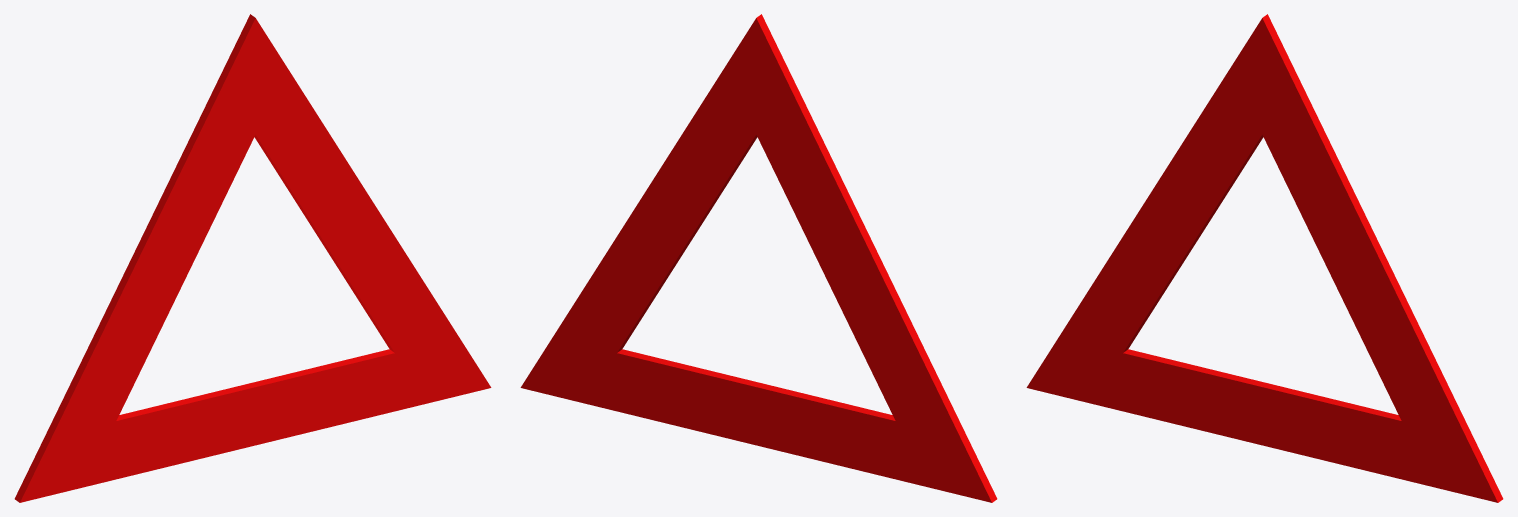
The model's file is gate_triangle_small_red.dae.
3 renders of one model, left to right at view 1: azimuth 30°, elevation 25°; view 2: azimuth 150°, elevation 25°; view 3: azimuth 330°, elevation 25°, orthographic.
Visible parts, largest first — view 1: Triangle Small; view 2: Triangle Small; view 3: Triangle Small.
Boxes of the visible parts, x1,y1,x2,y2 form: Triangle Small: (14, 14, 491, 502); Triangle Small: (520, 14, 997, 502); Triangle Small: (1026, 14, 1503, 502).
Bounding box in the file's own units: 1.27 × 0.025 × 1.1.
